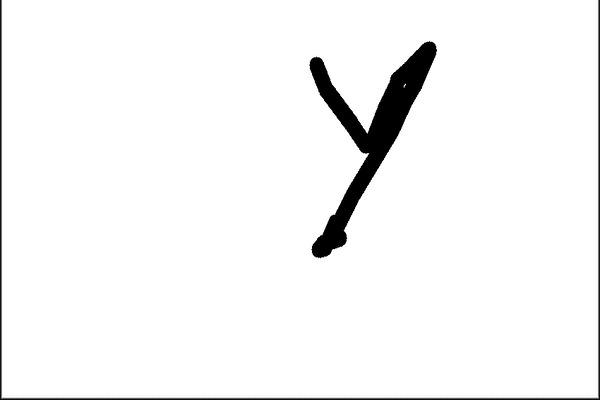Y: (293, 35, 447, 266)
